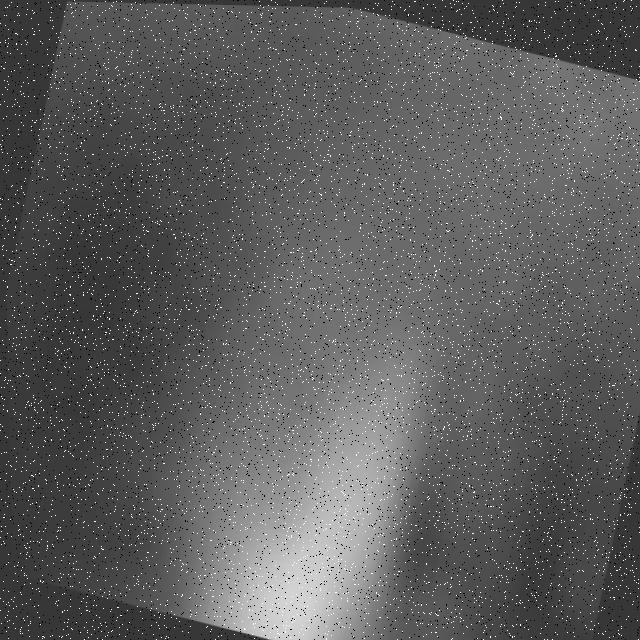person: (144, 197, 509, 640)
